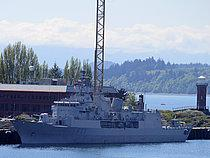MIL_Ship: (9, 68, 192, 144)
